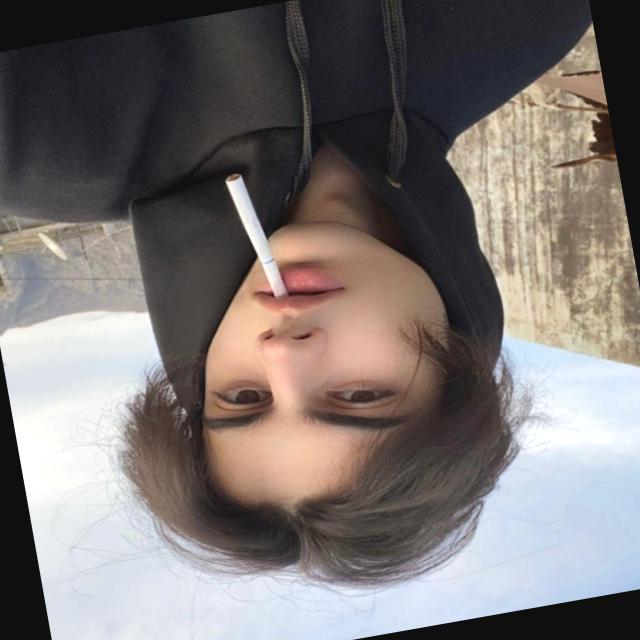cigarette: (200, 148, 315, 316)
